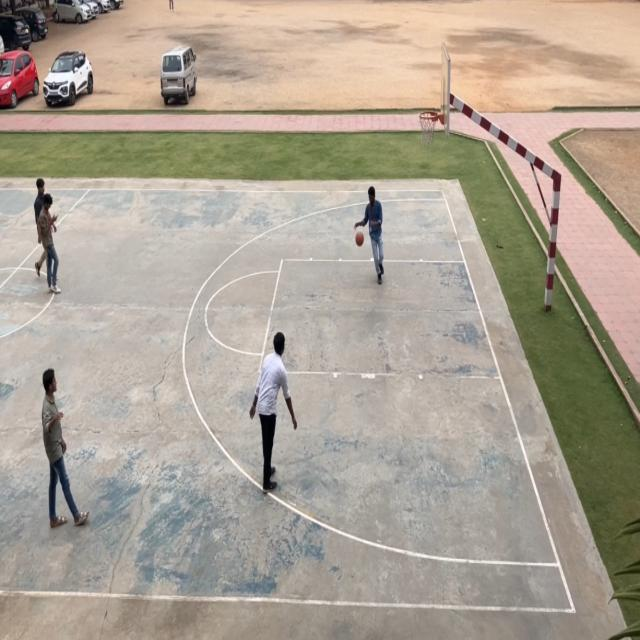basketball: (355, 230, 365, 250)
hoop: (418, 108, 438, 150)
